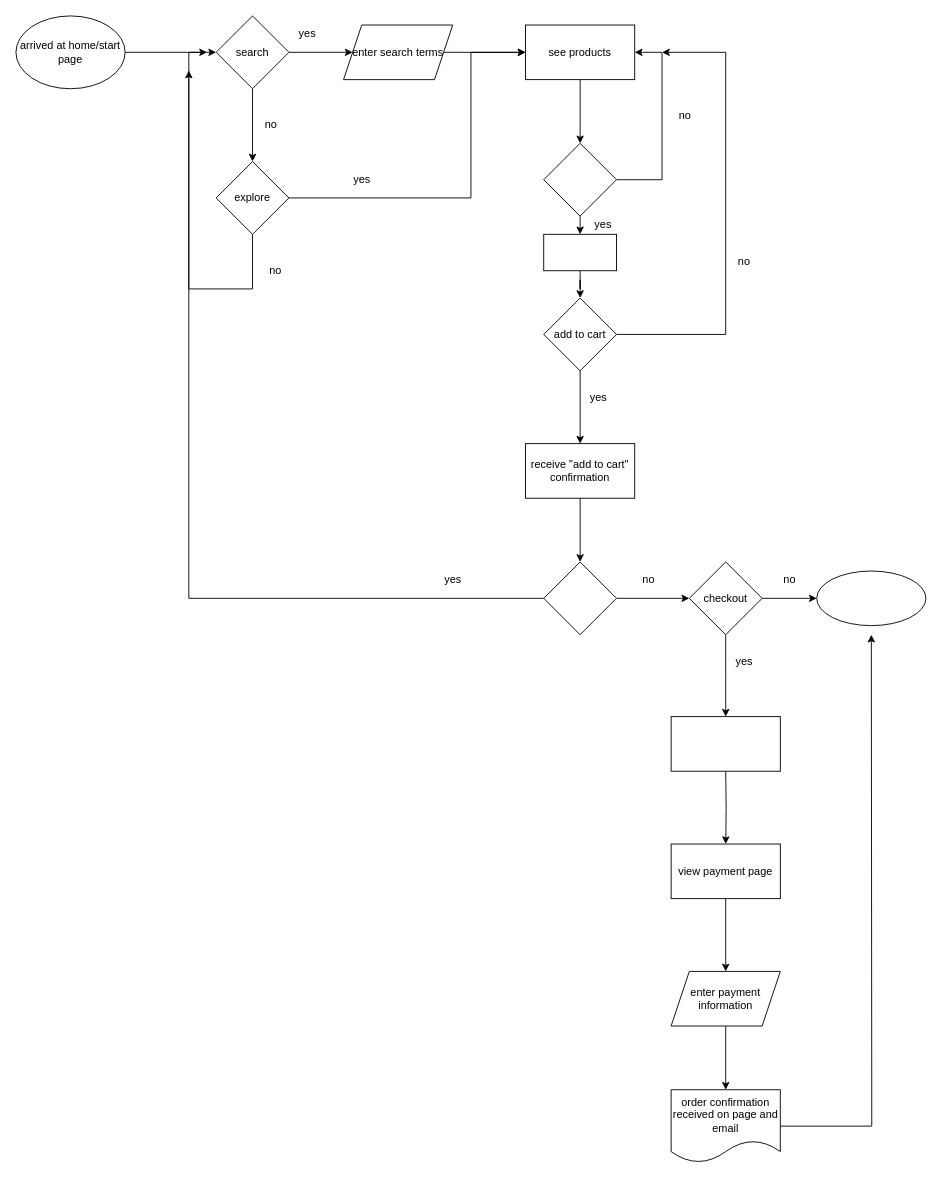
Image size: 942x1178. Some labels were removed from this diagram. The shapes that lost their labels are listed below. From the top down, each one's box as (x1, y1, x2, y2) in pixels, then its label:
(543, 142, 617, 216): click specific product
(543, 233, 617, 271): see product webpage
(543, 561, 617, 635): continue shopping
(816, 570, 926, 626): leave website
(670, 716, 780, 771): view cart
